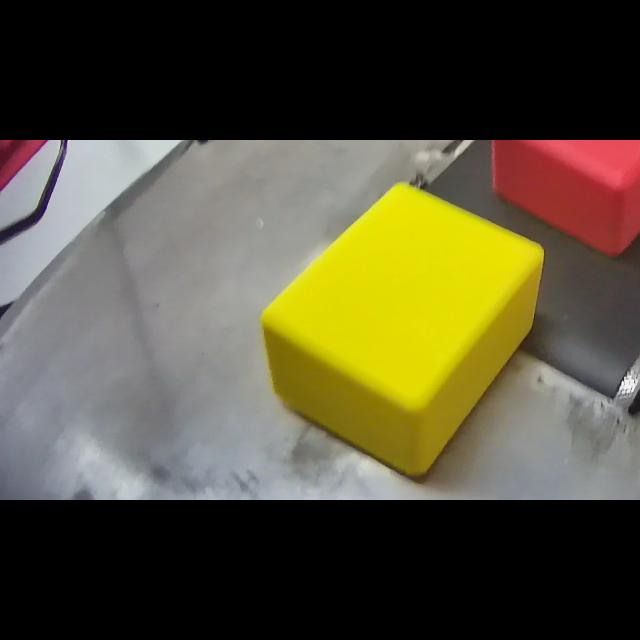redBox: (488, 140, 640, 266)
yellowBox: (256, 179, 550, 491)
